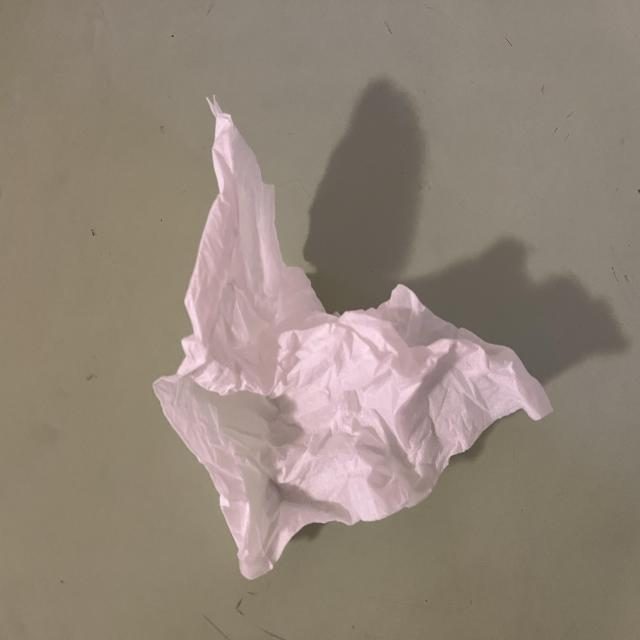衛生紙: (199, 69, 640, 436)
